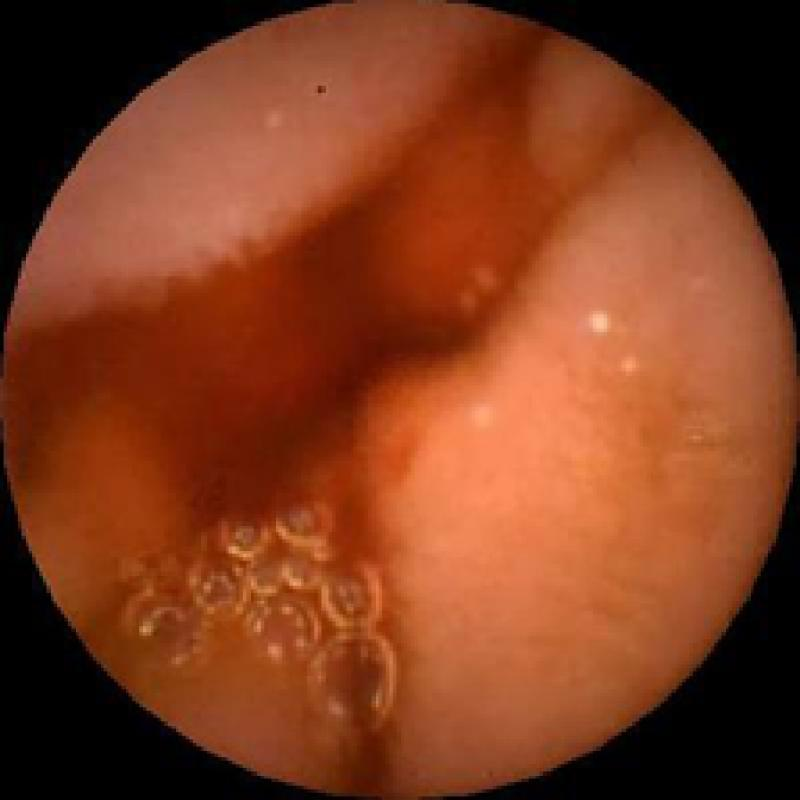bleeding: (114, 46, 596, 764)
